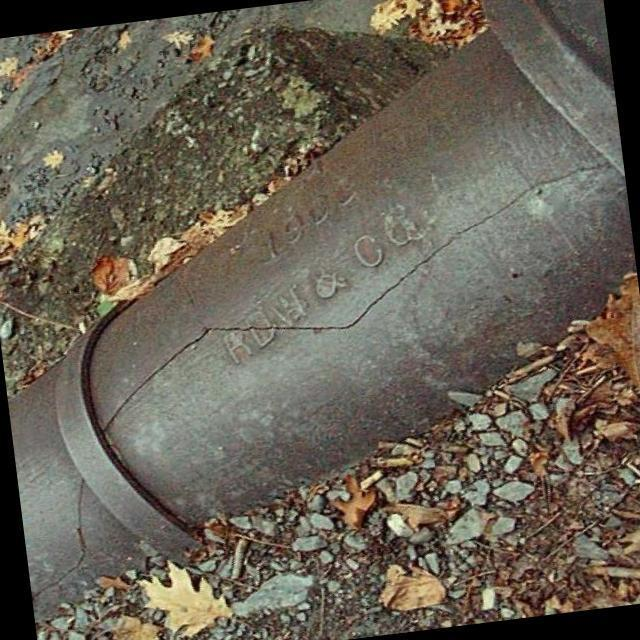defect: (101, 157, 617, 433), (34, 473, 91, 601)
